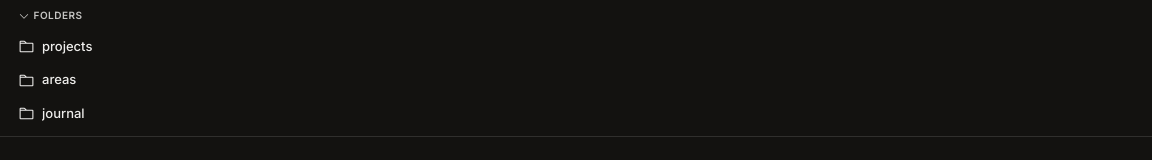
it: FolderTree › collapses section when clicking the FOLDERS header
Expected: the text "projects" is shown, [42,37,92,56]
Click the button "FOLDERS": coordinates (58, 15) [18,8,1132,23]
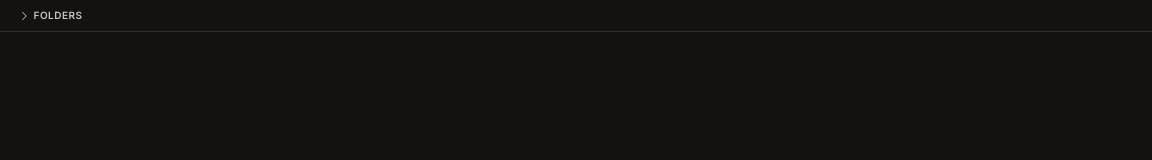
Now the button "projects" is gone
